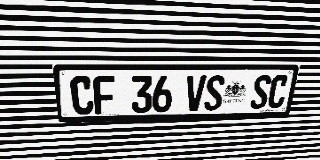3: (132, 76, 152, 113)
6: (152, 76, 173, 112)
C: (69, 76, 94, 115), (266, 75, 290, 109)
F: (93, 76, 116, 114)
S: (203, 75, 226, 111), (249, 75, 272, 109)
V: (185, 75, 206, 111)
